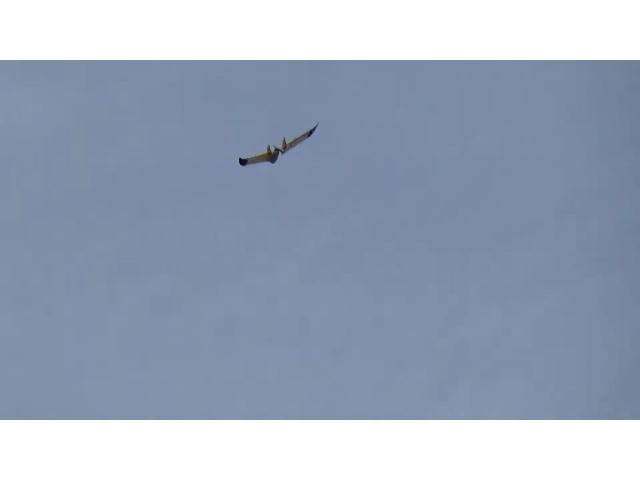Anti-Drone: (240, 124, 318, 166)
